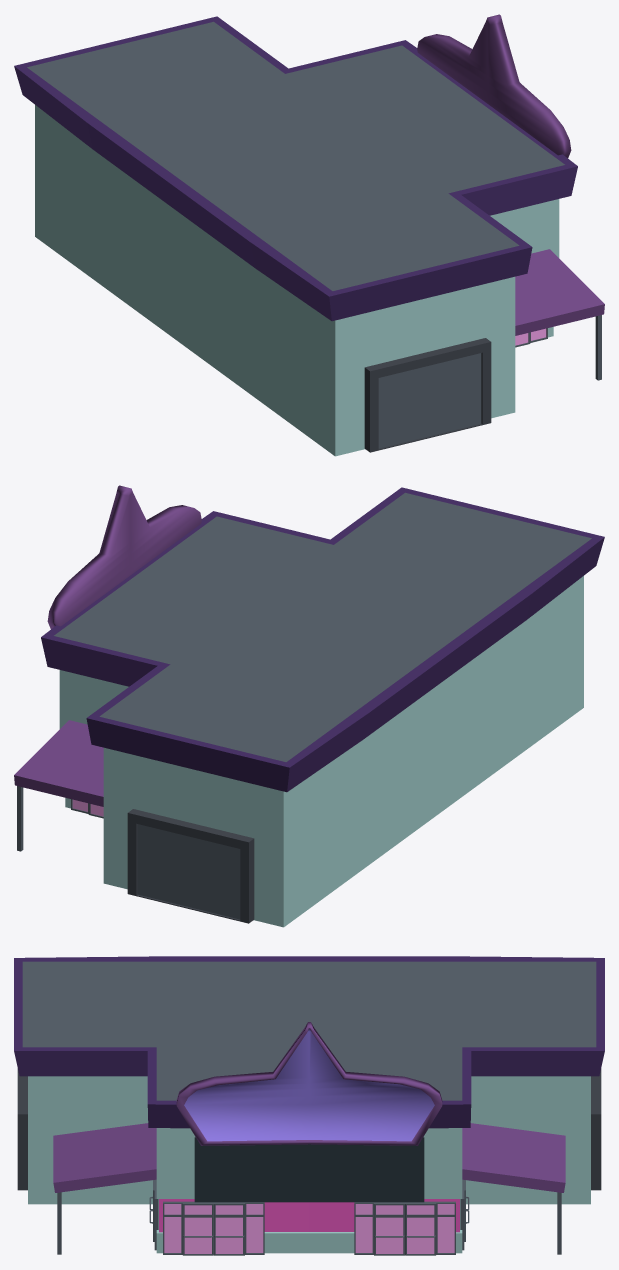
File: EvelmartExterior.fbx
3 views of the same model, one above another, from view 1: azimuth 30°, elevation 25°; view 2: azimuth 150°, elevation 25°; view 3: azimuth 270°, elevation 25° (orthographic). The views are drawn at different scales.
Visible parts, largest first — view 1: SlidingDoor; view 2: SlidingDoor; view 3: SlidingDoor.
Boxes of the visible parts, x1=… form: SlidingDoor: x1=14, y1=14, x2=604, y2=456; SlidingDoor: x1=14, y1=485, x2=604, y2=927; SlidingDoor: x1=14, y1=956, x2=604, y2=1255.
Size of the model in its own units: 6288 by 4669 by 10338.
